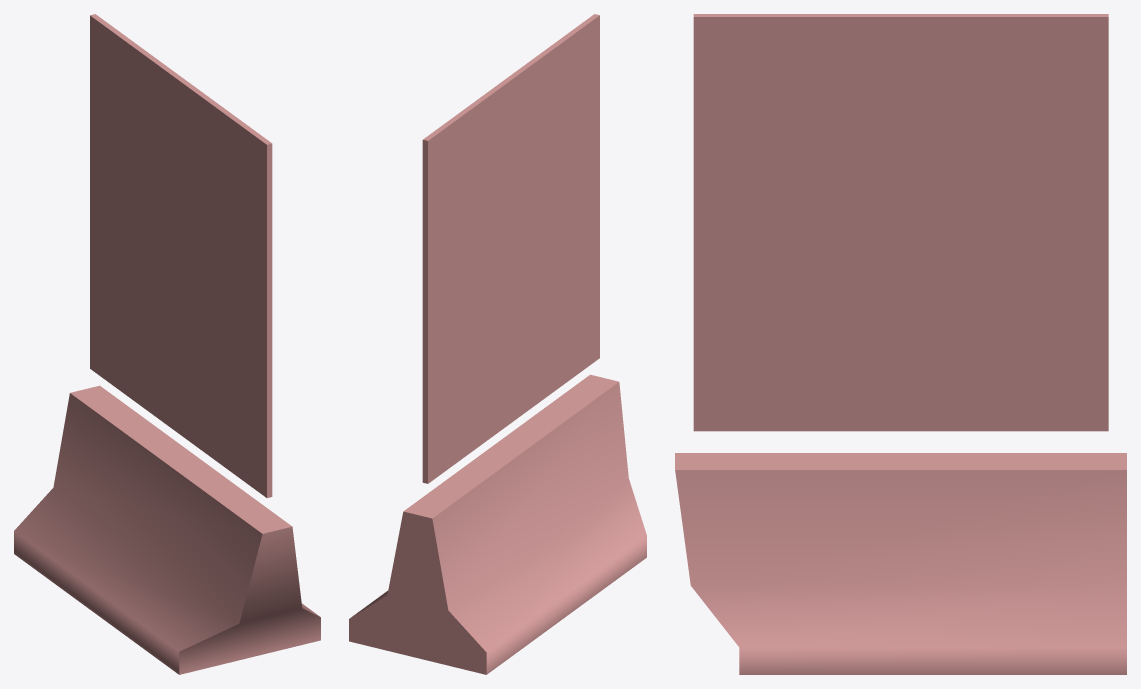
File: Fence_A_C_COL.fbx
3 views of the same model, side by side, from view 1: azimuth 30°, elevation 25°; view 2: azimuth 150°, elevation 25°; view 3: azimuth 270°, elevation 25° (orthographic). The views are drawn at different scales.
Parts seen in each view (by area): view 1: Fence_A_C_COL; view 2: Fence_A_C_COL; view 3: Fence_A_C_COL.
Boxes of the visible parts, box(x1,y1,x2,y2) form: Fence_A_C_COL: box(14, 14, 320, 674); Fence_A_C_COL: box(349, 14, 646, 674); Fence_A_C_COL: box(675, 14, 1126, 674).
Size of the model in its own units: 80 by 285 by 189.
